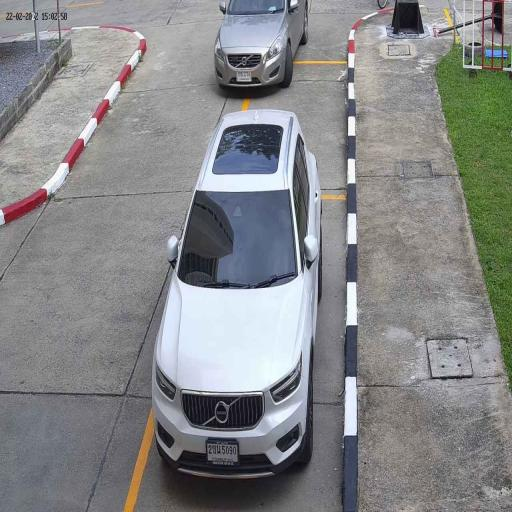car: (152, 111, 324, 483), (213, 0, 309, 90)
